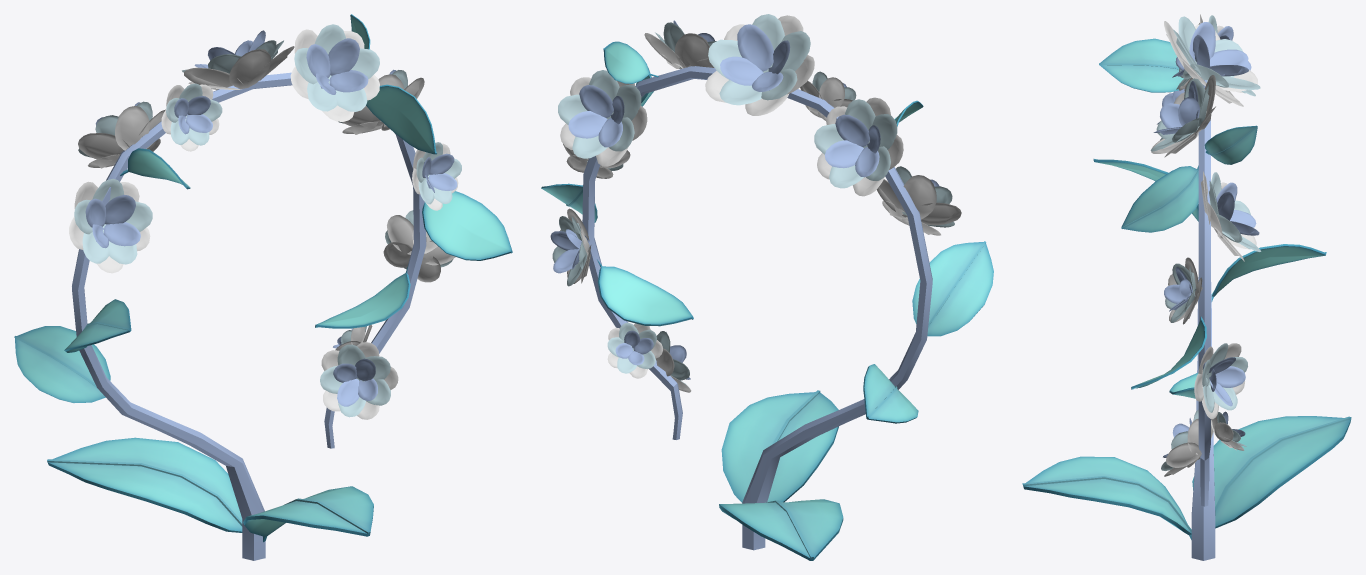
Rendered from flower5.fbx.
The picture shows the model from 3 angles, left to right: view 1: azimuth 30°, elevation 25°; view 2: azimuth 150°, elevation 25°; view 3: azimuth 270°, elevation 25°; orthographic projection.
Parts seen in each view (by area): view 1: pCylinder45, pPlane298, pPlane299, pPlane302, pPlane297, pPlane304, pPlane303, pPlane300, pPlane301, pPlane443, pPlane415, pPlane416 (+7 smaller); view 2: pCylinder45, pPlane297, pPlane300, pPlane298, pPlane303, pPlane299, pPlane305, pPlane447, pPlane409, pPlane460, pPlane442, pPlane398 (+16 smaller); view 3: pPlane298, pPlane297, pCylinder45, pPlane304, pPlane301, pPlane299, pPlane305, pPlane302, pPlane300, pPlane483, pPlane448, pPlane449 (+5 smaller).
Part boxes in pixels (<box>): pCylinder45: <box>72,72,426,560</box>; pPlane298: <box>47,437,242,532</box>; pPlane299: <box>14,326,110,402</box>; pPlane302: <box>422,191,512,260</box>; pPlane297: <box>243,486,373,542</box>; pPlane304: <box>366,84,436,154</box>; pPlane303: <box>315,264,410,328</box>; pPlane300: <box>64,299,131,352</box>; pPlane301: <box>120,148,190,189</box>; pPlane443: <box>229,49,271,88</box>; pPlane415: <box>115,106,149,150</box>; pPlane416: <box>78,133,129,161</box>; pCylinder45: <box>582,66,932,550</box>; pPlane297: <box>721,390,838,502</box>; pPlane300: <box>912,241,993,336</box>; pPlane298: <box>719,499,843,560</box>; pPlane303: <box>597,259,693,326</box>; pPlane299: <box>863,364,918,423</box>; pPlane305: <box>603,41,658,83</box>; pPlane447: <box>737,24,773,71</box>; pPlane409: <box>675,33,710,68</box>; pPlane460: <box>903,175,936,219</box>; pPlane442: <box>720,56,763,85</box>; pPlane398: <box>824,140,863,168</box>; pPlane298: <box>1192,416,1351,528</box>; pPlane297: <box>1022,456,1191,539</box>; pCylinder45: <box>1191,80,1215,560</box>; pPlane304: <box>1121,165,1198,232</box>; pPlane301: <box>1099,38,1183,92</box>; pPlane299: <box>1211,244,1326,301</box>; pPlane305: <box>1204,125,1257,164</box>; pPlane302: <box>1131,316,1206,389</box>; pPlane300: <box>1093,159,1198,221</box>; pPlane483: <box>1166,442,1201,467</box>; pPlane448: <box>1210,49,1248,75</box>; pPlane449: <box>1189,22,1215,61</box>.
Bounding box in the file's own units: 1.52 × 1.75 × 0.9944.
